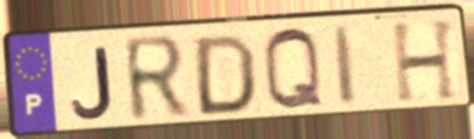D: (193, 31, 259, 118)
H: (388, 16, 461, 106)
I: (330, 23, 359, 109)
J: (68, 44, 116, 121)
Q: (260, 25, 327, 115)
R: (120, 32, 192, 127)
